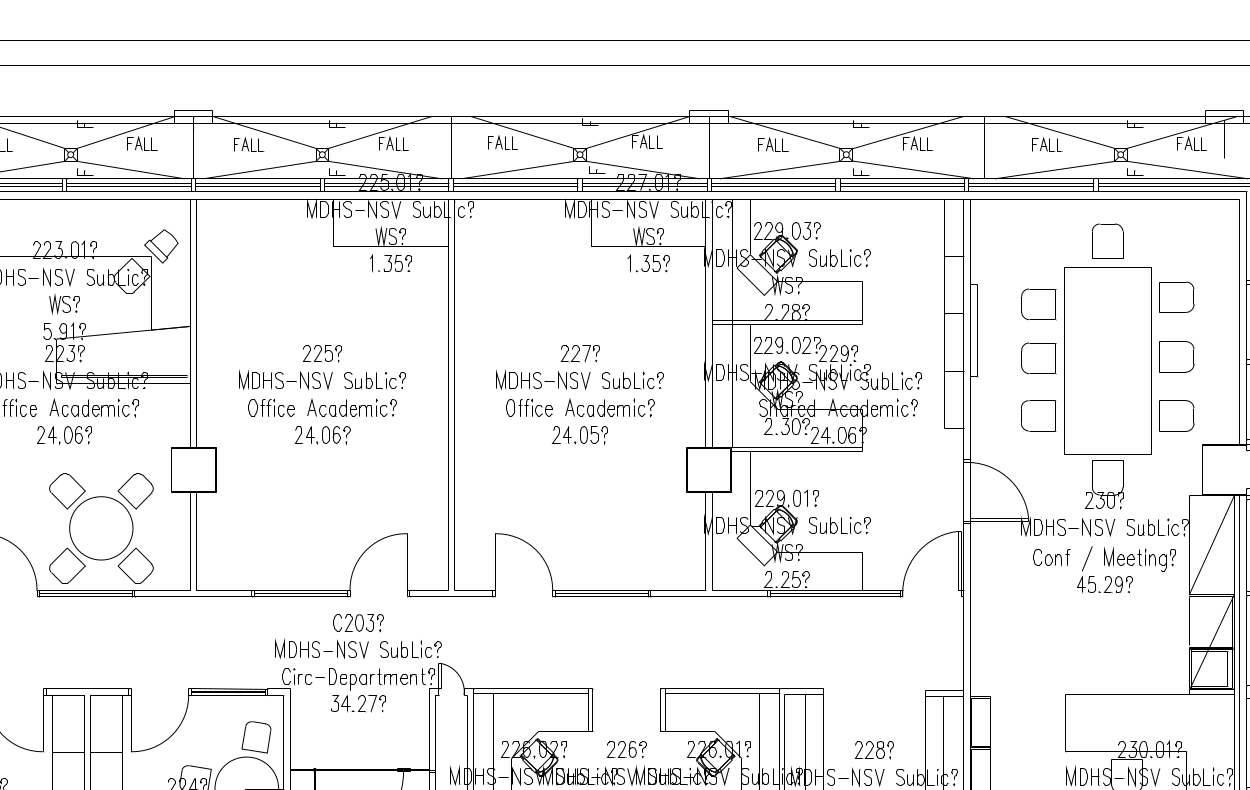door: (346, 529, 411, 592), (488, 530, 553, 593), (895, 526, 960, 589), (966, 454, 1031, 517), (125, 696, 190, 759)
